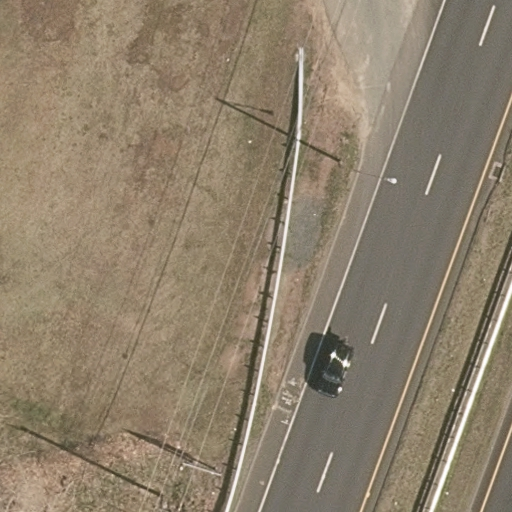DT: (171, 449, 228, 483)
